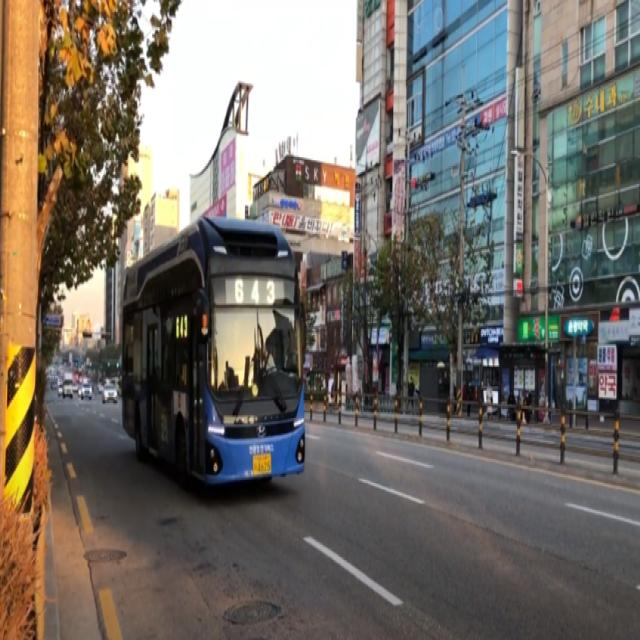bus-number: (234, 276, 276, 306)
